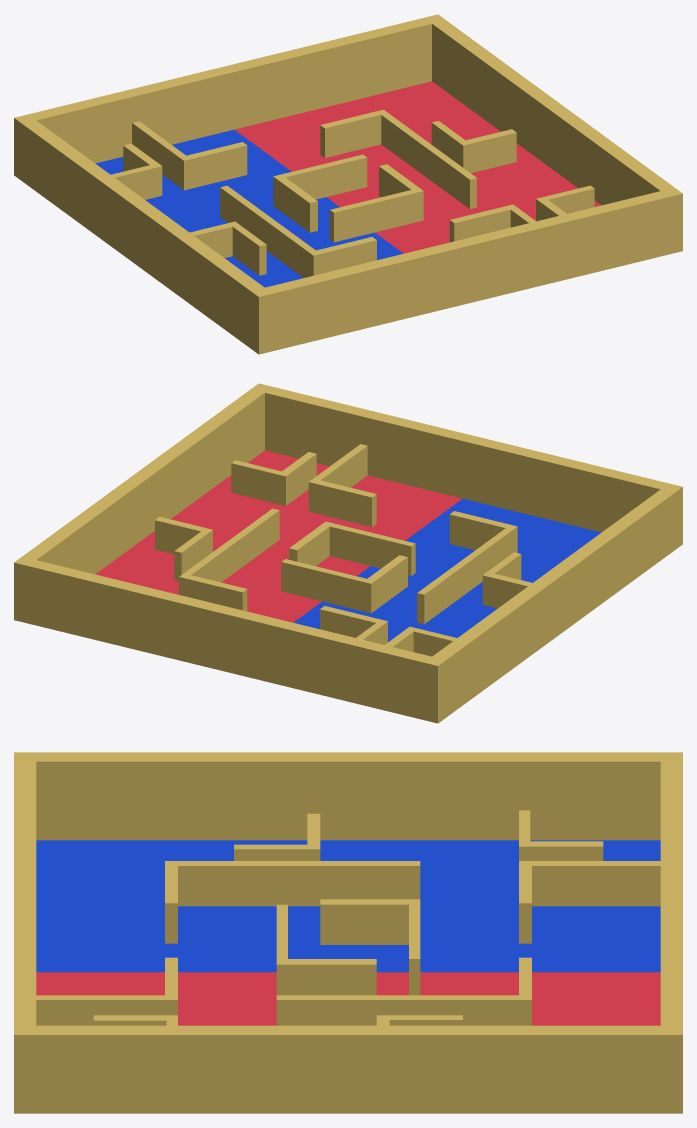
File: Capture the flag.fbx
3 views of the same model, one above another, from view 1: azimuth 30°, elevation 25°; view 2: azimuth 150°, elevation 25°; view 3: azimuth 270°, elevation 25° (orthographic). The views are drawn at different scales.
Parts seen in each view (by area): view 1: Plane; view 2: Plane; view 3: Plane.
Part boxes in pixels (x1,y1,x2,y2): Plane: (14,14,682,354); Plane: (14,383,682,723); Plane: (14,752,682,1113).
Size of the model in its own units: 3000 by 389 by 3000.
